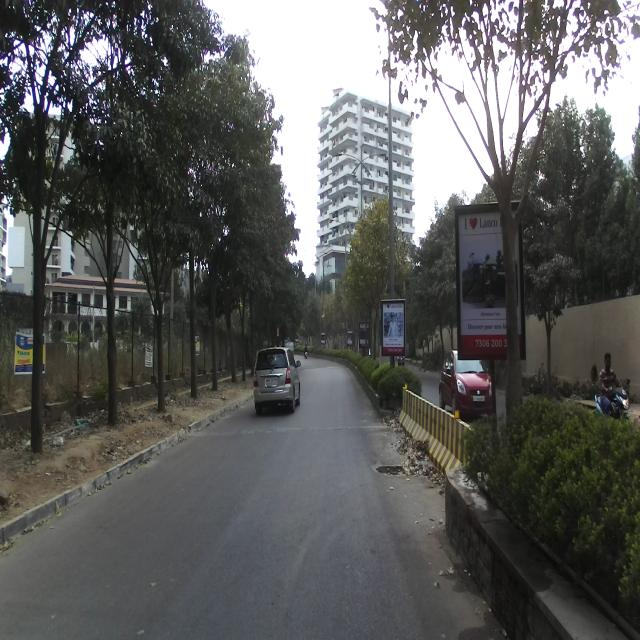car ahead at: (250, 338, 302, 421)
tree ahead at: (26, 204, 58, 448), (98, 218, 130, 436), (142, 253, 176, 412)
